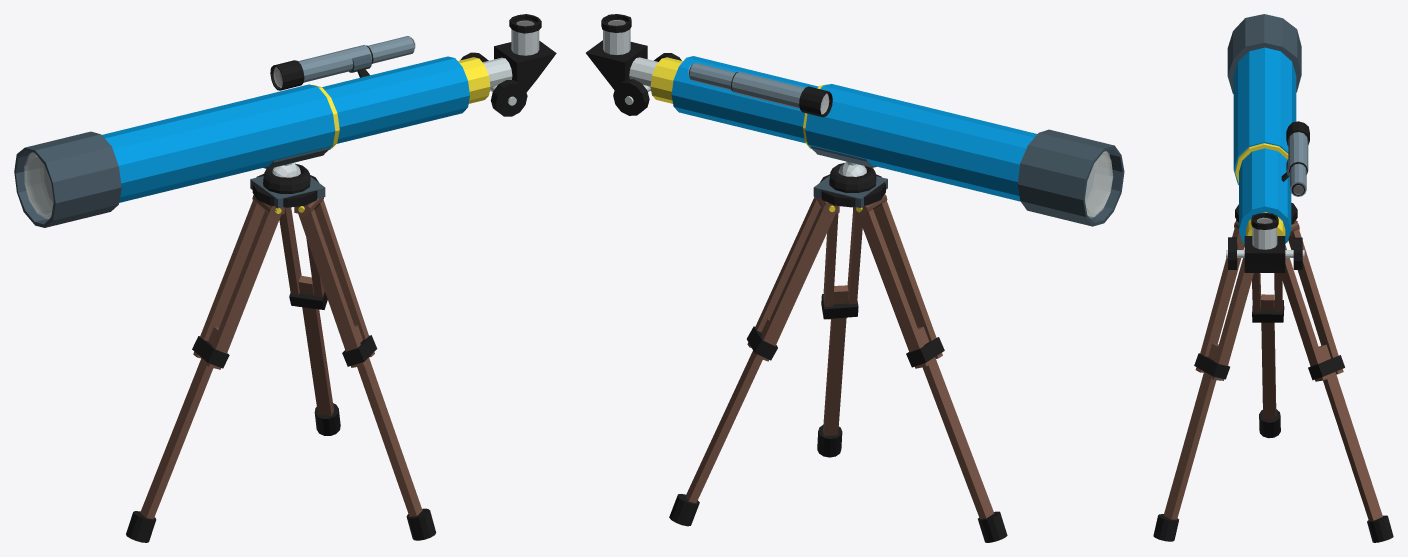
Rendered from telescope.glb.
The picture shows the model from 3 angles, left to right: view 1: azimuth 30°, elevation 25°; view 2: azimuth 150°, elevation 25°; view 3: azimuth 270°, elevation 25°; orthographic projection. The views are drawn at different scales.
Parts seen in each view (by area): view 1: group981162523, group1747968966, group234678999, group1584109768, group1349638025, group64639341, group1571442030, group1509165123, group1618297470, group210301224, group460444252, group1553165965 (+12 smaller); view 2: group981162523, group234678999, group1747968966, group1584109768, group1509165123, group706228342, group1618297470, group1349638025, group1571442030, group1553165965, group312694917, group460444252 (+13 smaller); view 3: group981162523, group1747968966, group234678999, group1618297470, group1571442030, group1584109768, group312694917, group210301224, group706228342, group64639341, group460444252, group1553165965 (+15 smaller).
Part boxes in pixels (x1=…): group981162523: x1=102, y1=84, x2=335, y2=202; group1747968966: x1=322, y1=56, x2=469, y2=143; group234678999: x1=14, y1=131, x2=121, y2=227; group1584109768: x1=140, y1=326, x2=218, y2=519; group1349638025: x1=205, y1=206, x2=280, y2=369; group64639341: x1=298, y1=203, x2=366, y2=367; group1571442030: x1=354, y1=325, x2=422, y2=516; group1509165123: x1=193, y1=200, x2=264, y2=358; group1618297470: x1=298, y1=275, x2=333, y2=416; group210301224: x1=314, y1=199, x2=374, y2=357; group460444252: x1=494, y1=41, x2=556, y2=92; group1553165965: x1=298, y1=45, x2=371, y2=82; group981162523: x1=805, y1=84, x2=1036, y2=201; group234678999: x1=1017, y1=129, x2=1124, y2=226; group1747968966: x1=671, y1=56, x2=818, y2=143; group1584109768: x1=918, y1=326, x2=993, y2=518; group1509165123: x1=858, y1=209, x2=930, y2=368; group706228342: x1=754, y1=203, x2=835, y2=361; group1618297470: x1=685, y1=318, x2=769, y2=503; group1349638025: x1=874, y1=200, x2=942, y2=358; group1571442030: x1=823, y1=285, x2=848, y2=435; group1553165965: x1=731, y1=71, x2=804, y2=109; group312694917: x1=747, y1=197, x2=820, y2=347; group460444252: x1=586, y1=40, x2=647, y2=89; group981162523: x1=1233, y1=47, x2=1296, y2=184; group1747968966: x1=1239, y1=148, x2=1291, y2=243; group234678999: x1=1227, y1=14, x2=1301, y2=93; group1618297470: x1=1319, y1=344, x2=1382, y2=520; group1571442030: x1=1163, y1=343, x2=1218, y2=519; group1584109768: x1=1261, y1=294, x2=1276, y2=419; group312694917: x1=1280, y1=245, x2=1328, y2=381; group210301224: x1=1209, y1=258, x2=1253, y2=380; group706228342: x1=1288, y1=223, x2=1343, y2=374; group64639341: x1=1195, y1=227, x2=1244, y2=372; group460444252: x1=1244, y1=236, x2=1285, y2=272; group1553165965: x1=1288, y1=132, x2=1308, y2=174.
Bounding box in the file's own units: 1.93 × 1.58 × 0.8822.
